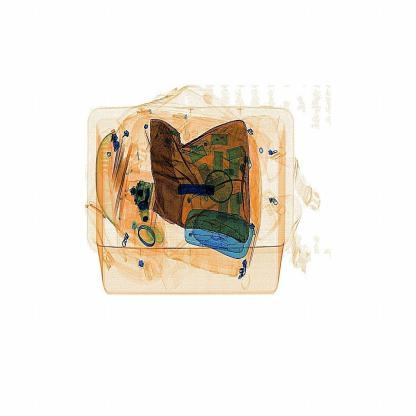knife: (172, 176, 214, 201)
